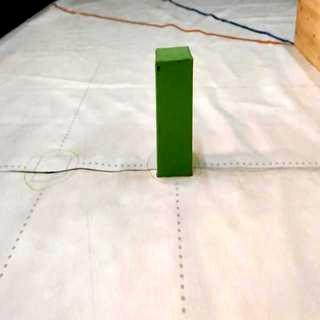greenbox: (155, 48, 193, 178)
